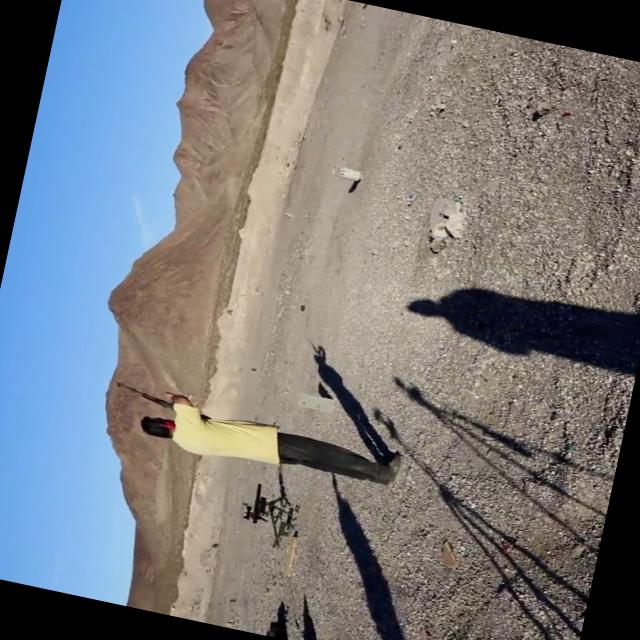long weapon: (80, 362, 226, 425), (225, 472, 300, 534)
